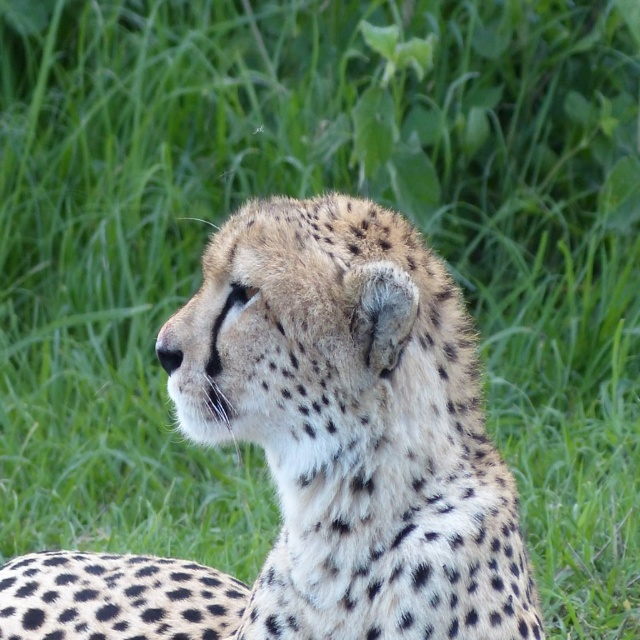Cheetah: (0, 192, 545, 639)
